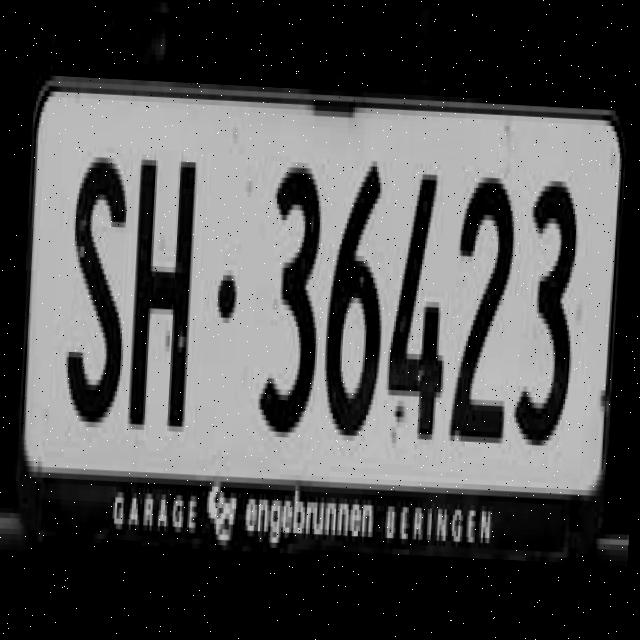Autre: (18, 74, 637, 584)
